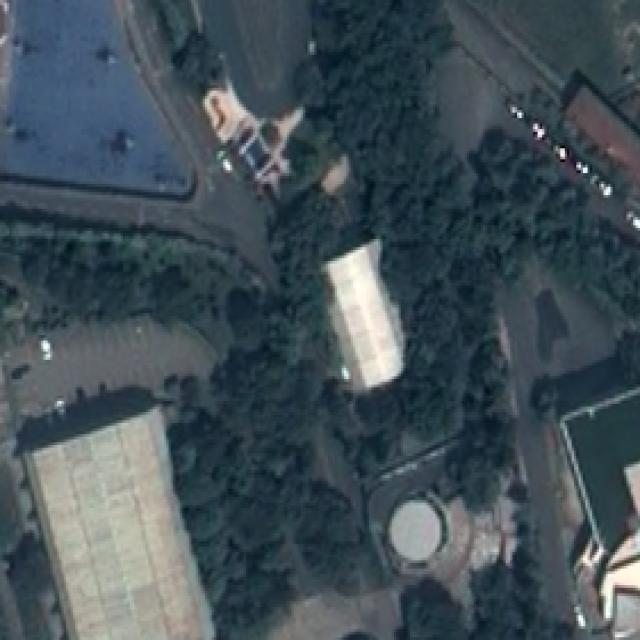Batiment: (25, 407, 210, 638), (324, 240, 405, 391), (562, 71, 640, 186)
